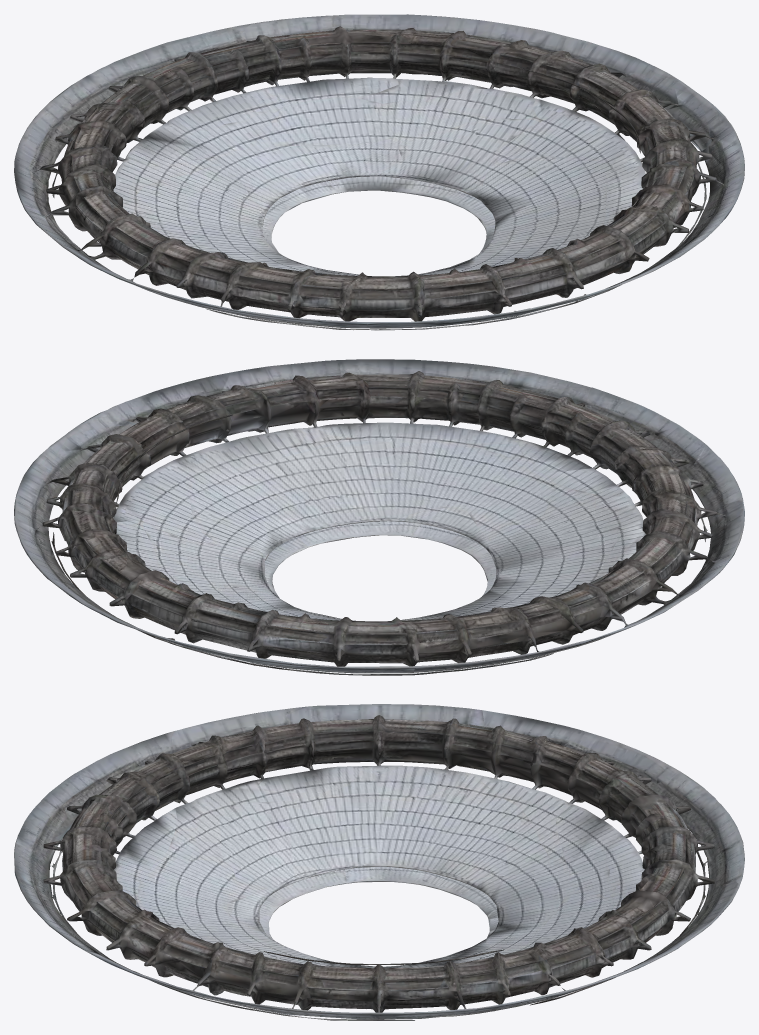
Rendered from dyson.glb.
3 renders of one model, top to bottom at view 1: azimuth 30°, elevation 25°; view 2: azimuth 150°, elevation 25°; view 3: azimuth 270°, elevation 25°, orthographic.
Visible parts, largest first — view 1: node_0; view 2: node_0; view 3: node_0.
Part boxes in pixels (<box>): node_0: <box>14,14,744,330</box>; node_0: <box>14,359,744,675</box>; node_0: <box>14,704,744,1020</box>.
Bounding box in the file's own units: 1.19 × 0.1517 × 1.19.
Materials: 1 (1 with a texture image).
